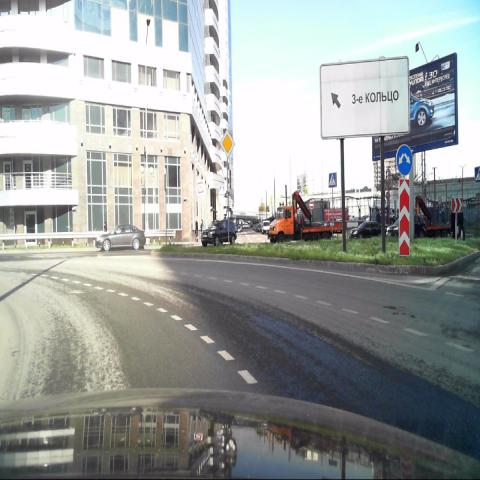4_2_3: (396, 144, 413, 176)
